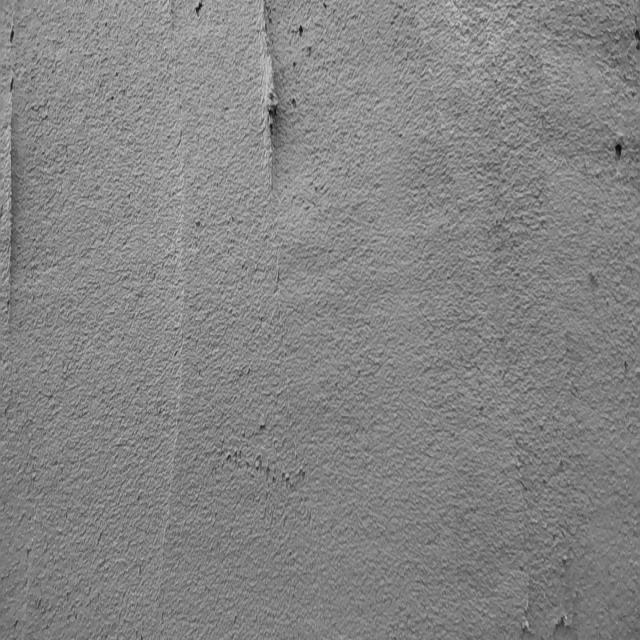trowels marks: (4, 68, 25, 318), (258, 0, 281, 197)
